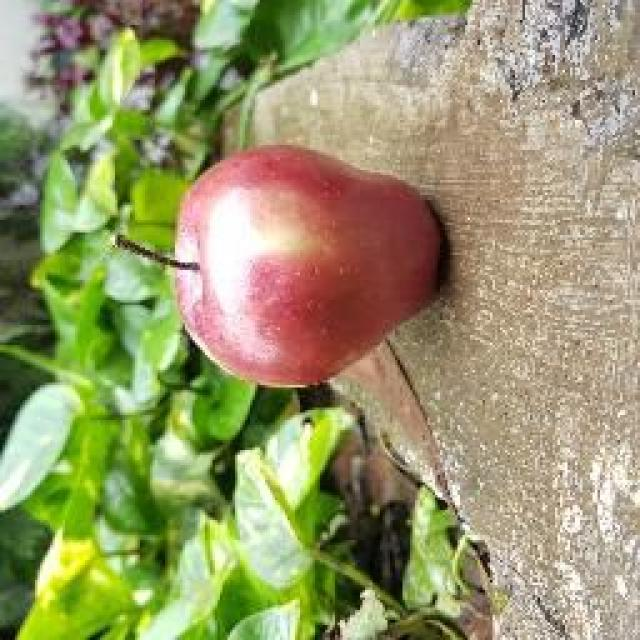Good_Apple: (168, 145, 448, 392)
